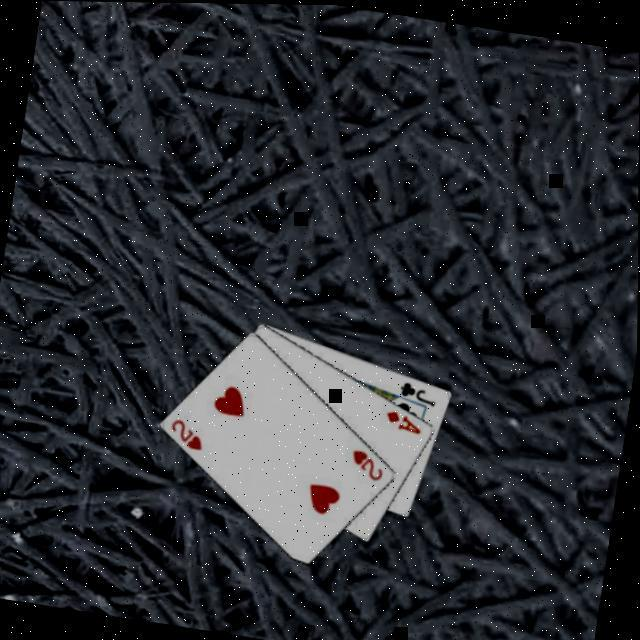2H: (169, 412, 212, 452), (350, 443, 392, 483)
AD: (384, 404, 428, 435)
JC: (399, 374, 444, 407)
